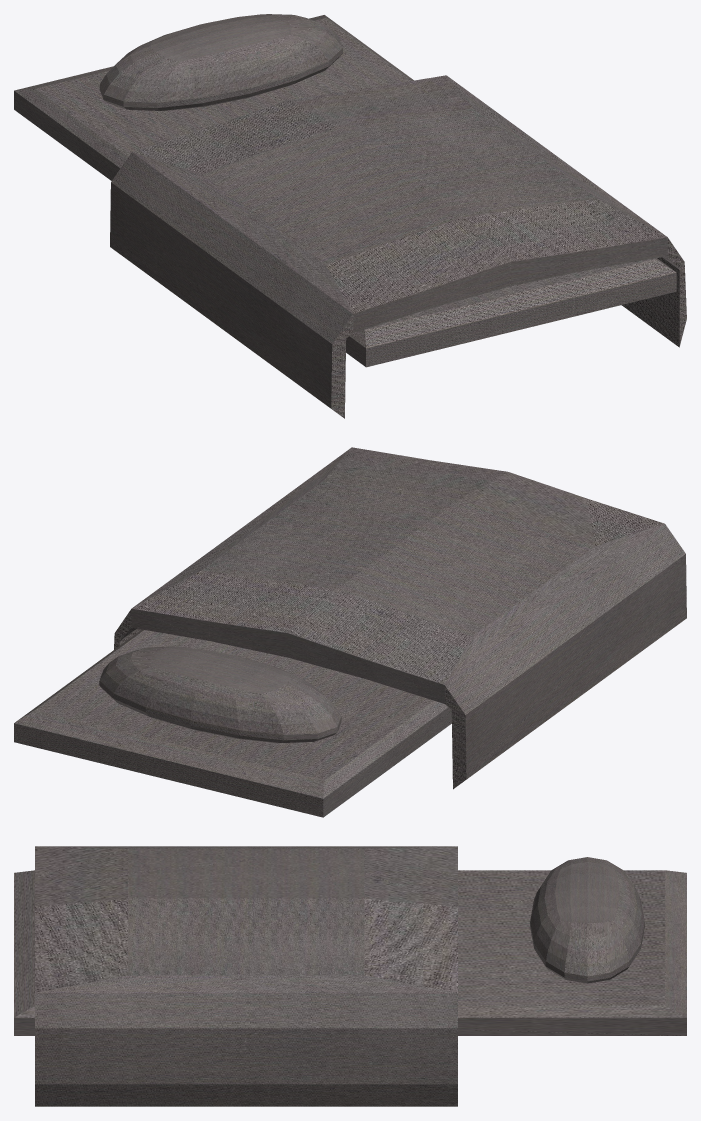
The model's file is bedCloth.obj.
3 views of the same model, one above another, from view 1: azimuth 30°, elevation 25°; view 2: azimuth 150°, elevation 25°; view 3: azimuth 270°, elevation 25° (orthographic). The views are drawn at different scales.
Size of the model in its own units: 7.66 by 3 by 13.13.
